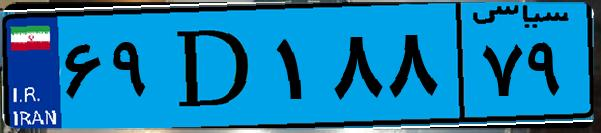1: (270, 28, 330, 110)
6: (57, 26, 110, 100)
7: (475, 38, 525, 113)
8: (385, 28, 445, 110), (330, 28, 385, 110)
9: (525, 38, 570, 115), (110, 28, 158, 98)
D: (158, 12, 270, 120)
